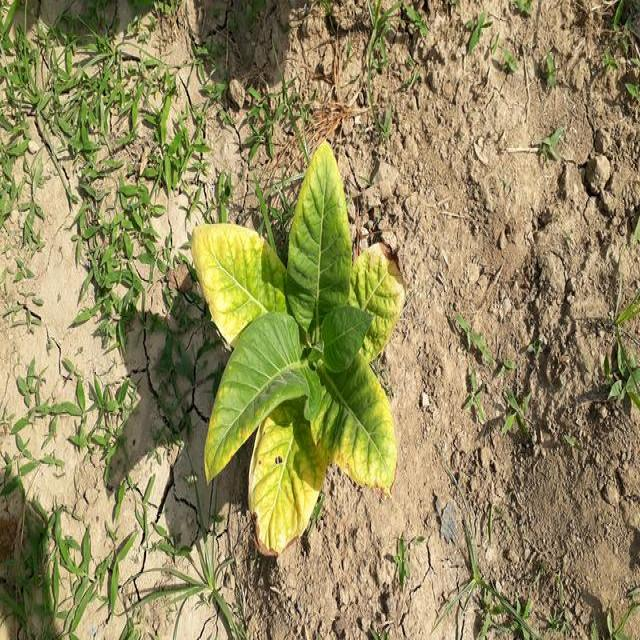crop: (200, 132, 402, 573)
